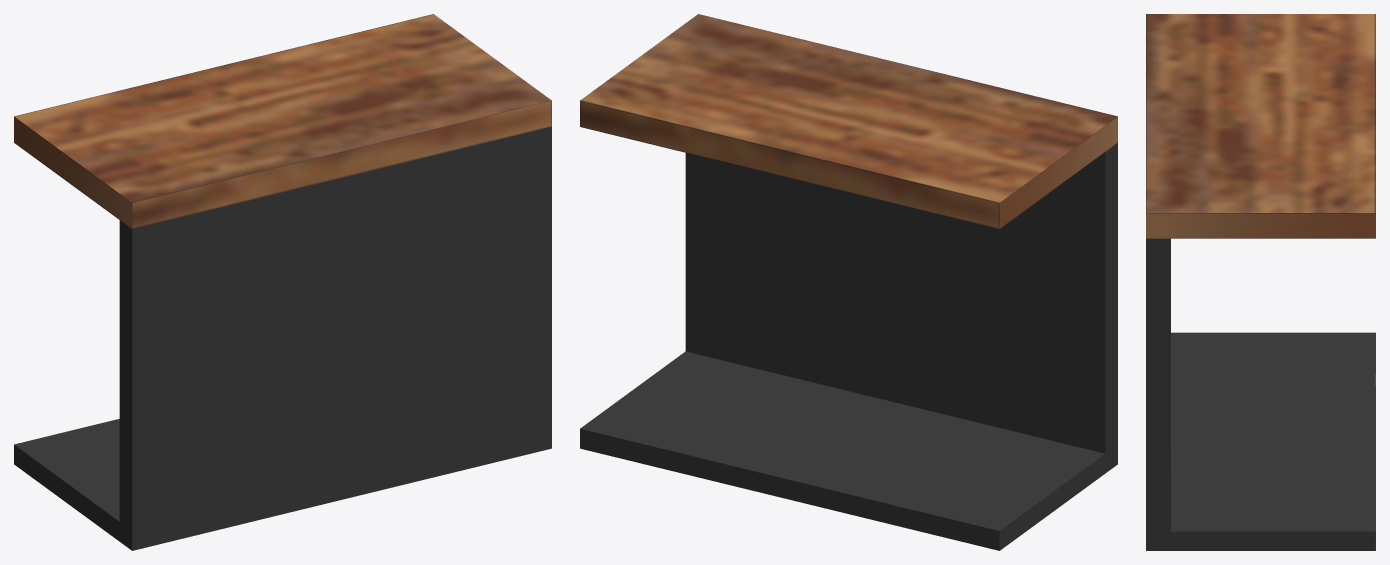
The model's file is DeskLv2.glb.
The picture shows the model from 3 angles, left to right: view 1: azimuth 30°, elevation 25°; view 2: azimuth 150°, elevation 25°; view 3: azimuth 270°, elevation 25°; orthographic projection. The views are drawn at different scales.
Parts seen in each view (by area): view 1: Desk; view 2: Desk; view 3: Desk.
Boxes of the visible parts, <box> form: Desk: <box>14,14,551,550</box>; Desk: <box>580,14,1117,550</box>; Desk: <box>1146,14,1375,550</box>.
Size of the model in its own units: 4.1 by 3.25 by 2.
1 material, 1 textured.
